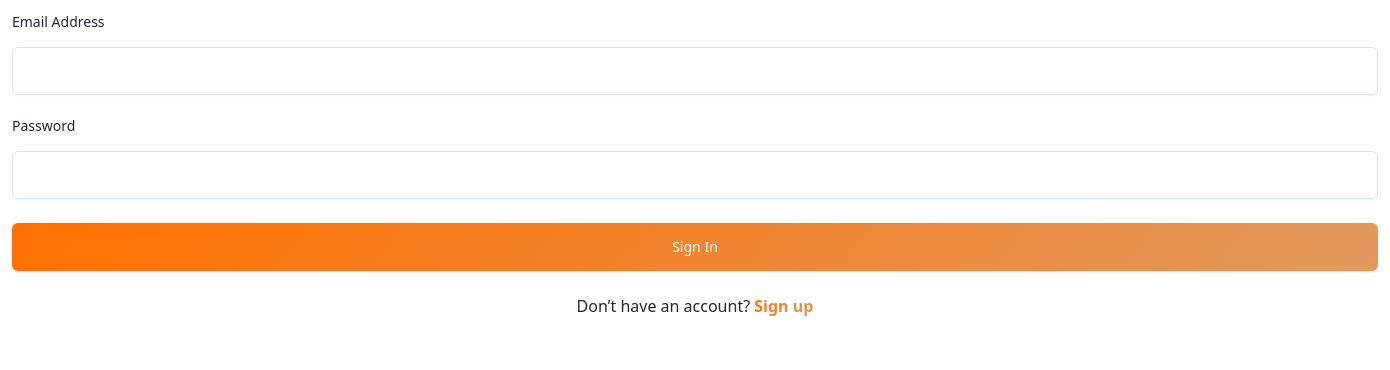
Test case: AuthForm Component › Sign In Form › Form Validation › should show validation error for short password
Type "valid@email.com" into the field labelled "Email Address".
click(695, 71); type("valid@email.com")  # box [12, 47, 1378, 95]
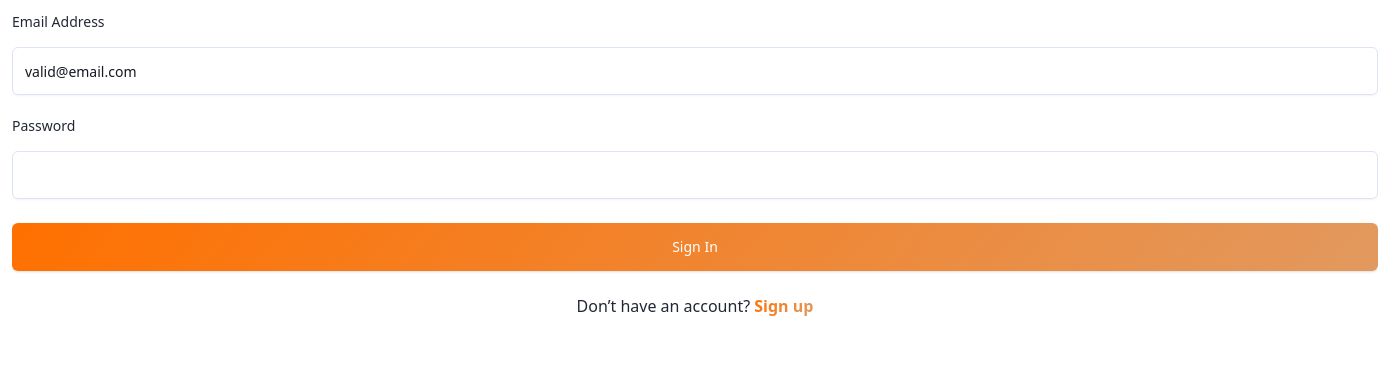
Type "123" into the password field labelled "Password".
click(695, 175); type("123")  # box [12, 151, 1378, 199]
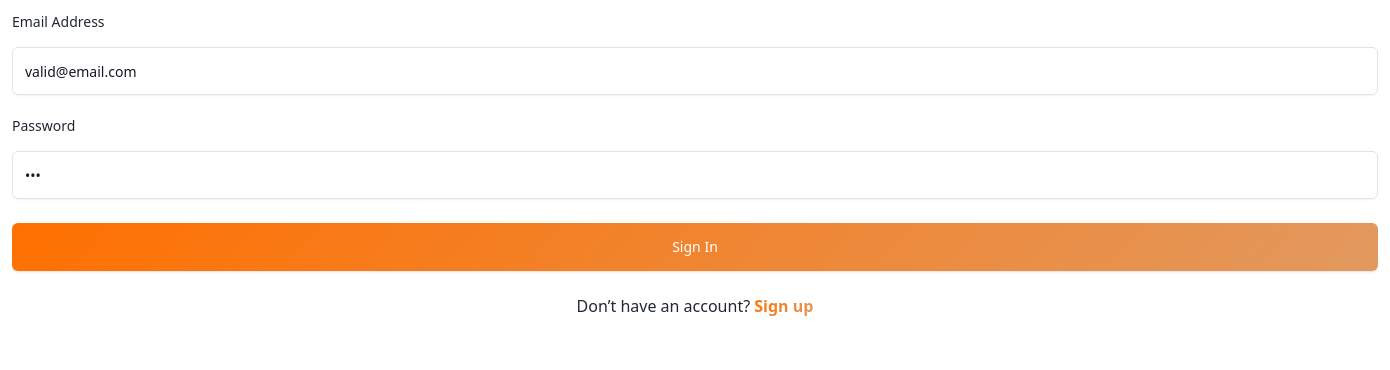
Click the button "Sign In".
click(695, 247)  # box [12, 223, 1378, 271]
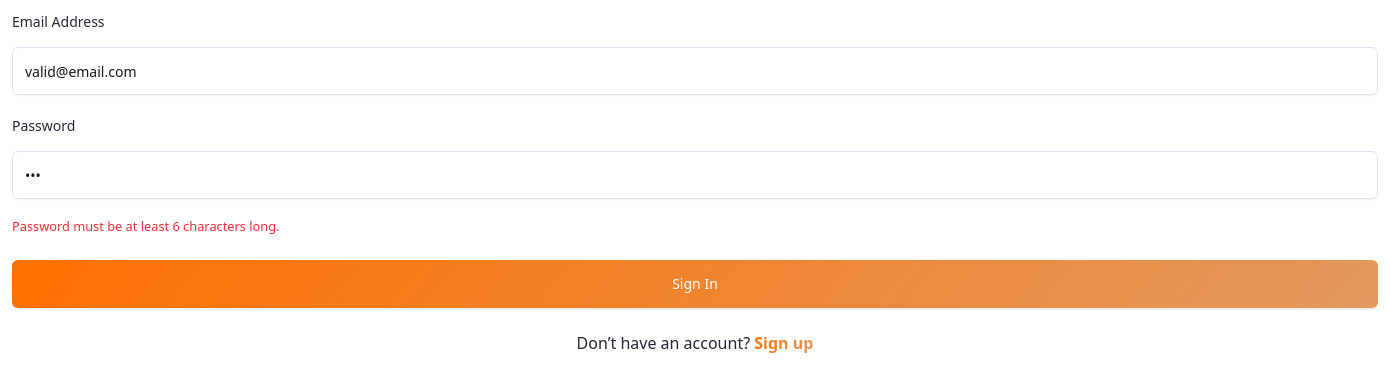
Result: the text "Password must be at least 6 characters long." is shown at [12, 217, 280, 235]
